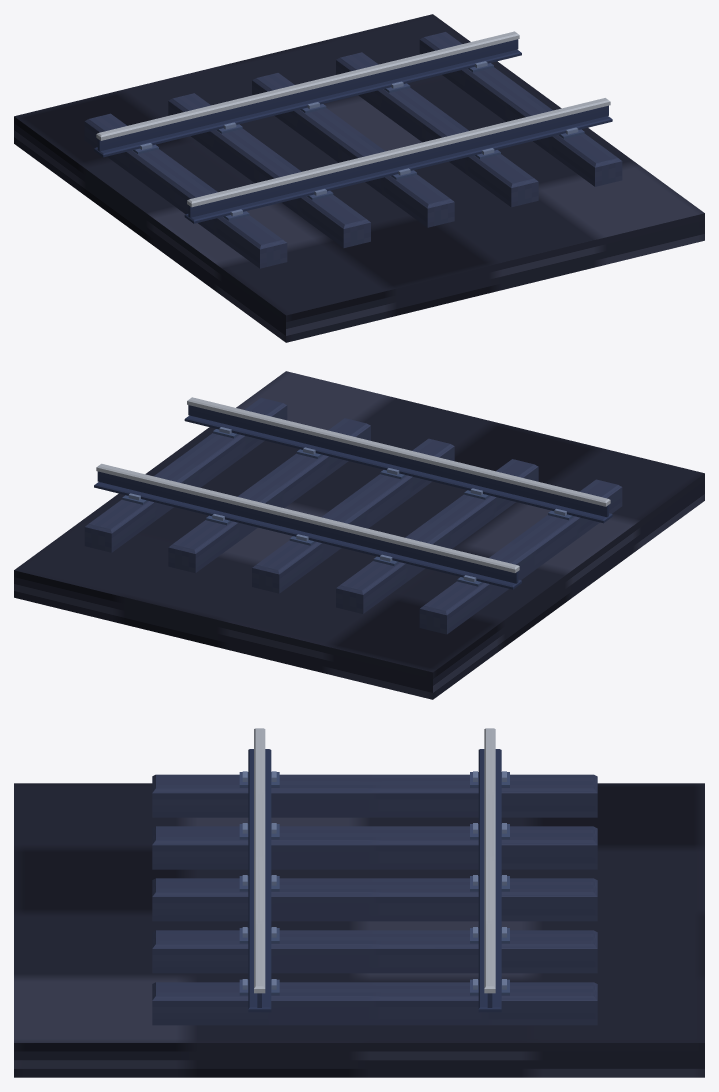
Rendered from SM_Track_Module_4m.fbx.
3 views of the same model, one above another, from view 1: azimuth 30°, elevation 25°; view 2: azimuth 150°, elevation 25°; view 3: azimuth 270°, elevation 25° (orthographic). The views are drawn at different scales.
Parts seen in each view (by area): view 1: SM_Track_Module_4m; view 2: SM_Track_Module_4m; view 3: SM_Track_Module_4m.
Boxes of the visible parts, <box> form: SM_Track_Module_4m: <box>14,14,704,342</box>; SM_Track_Module_4m: <box>14,371,704,699</box>; SM_Track_Module_4m: <box>14,728,704,1077</box>.
Bounding box in the file's own units: 4 × 0.65 × 4.5.
2 materials, 2 textured.
